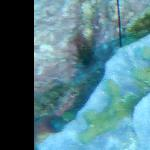dead: (37, 2, 144, 148)
